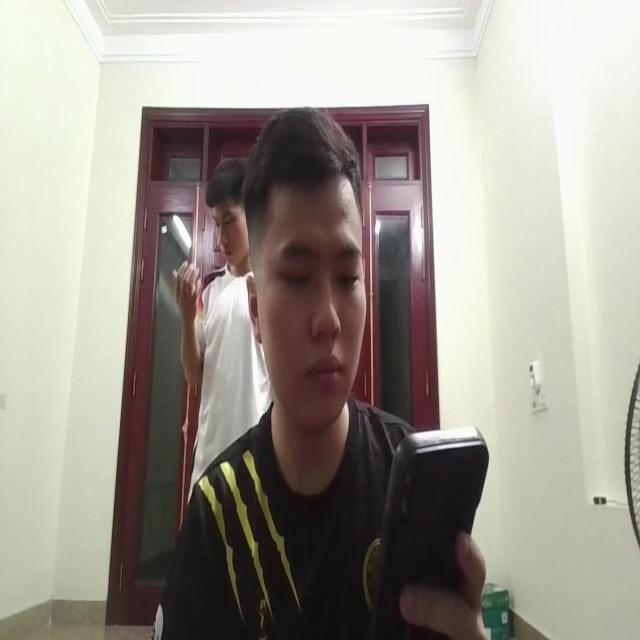extra_person: (176, 155, 262, 473)
phone: (388, 418, 486, 622)
student: (195, 108, 422, 638)
